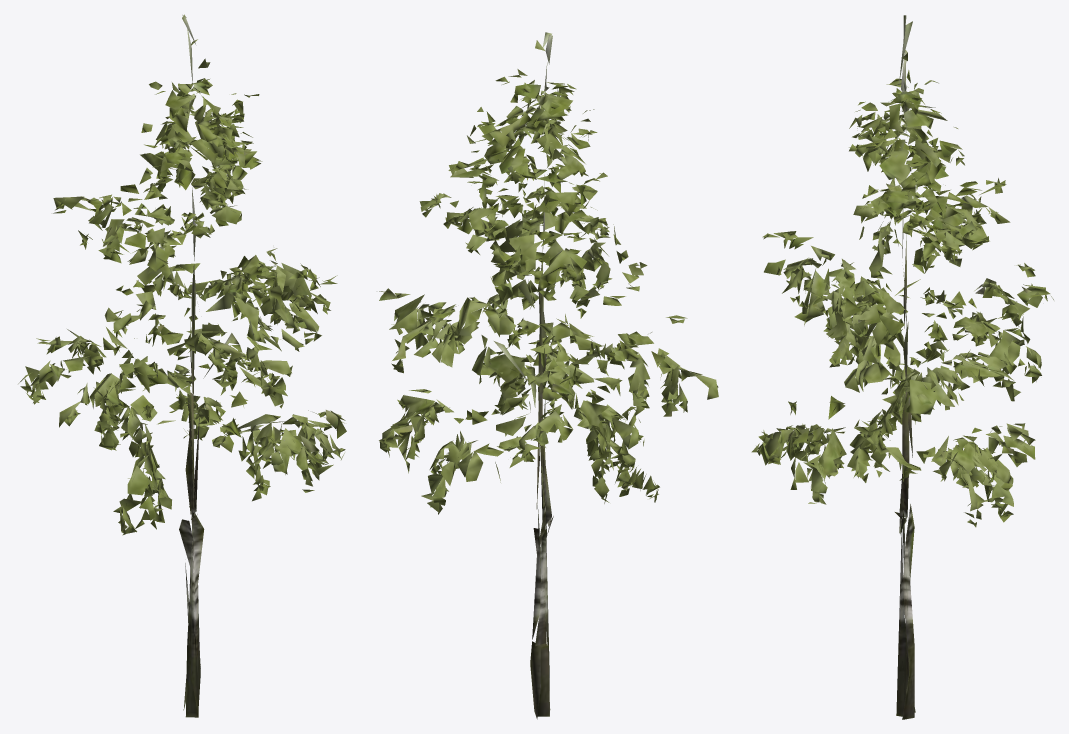
The model's file is betula_prateada_broto.glb.
3 views of the same model, side by side, from view 1: azimuth 30°, elevation 25°; view 2: azimuth 150°, elevation 25°; view 3: azimuth 270°, elevation 25° (orthographic).
Visible parts, largest first — view 1: geometry_0; view 2: geometry_0; view 3: geometry_0.
Boxes of the visible parts, bbox=[...] form: geometry_0: bbox=[18, 14, 346, 717]; geometry_0: bbox=[379, 32, 718, 719]; geometry_0: bbox=[751, 15, 1053, 719].
Bounding box in the file's own units: 0.456 × 0.9858 × 0.3933.
1 material, 1 textured.
